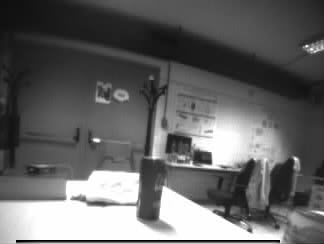Tin can: (138, 157, 163, 222), (283, 207, 324, 244)
